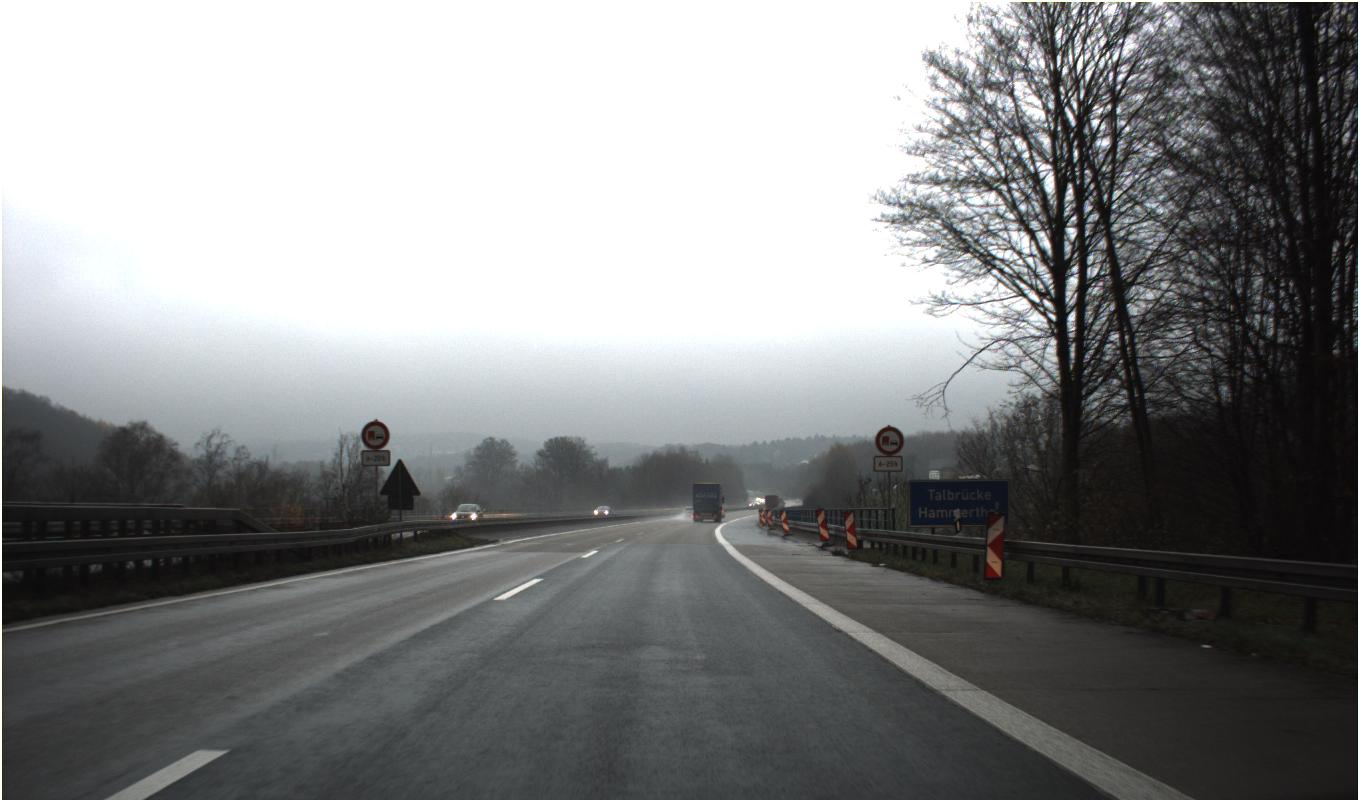prohibitory: (874, 426, 904, 456), (359, 420, 389, 450)
